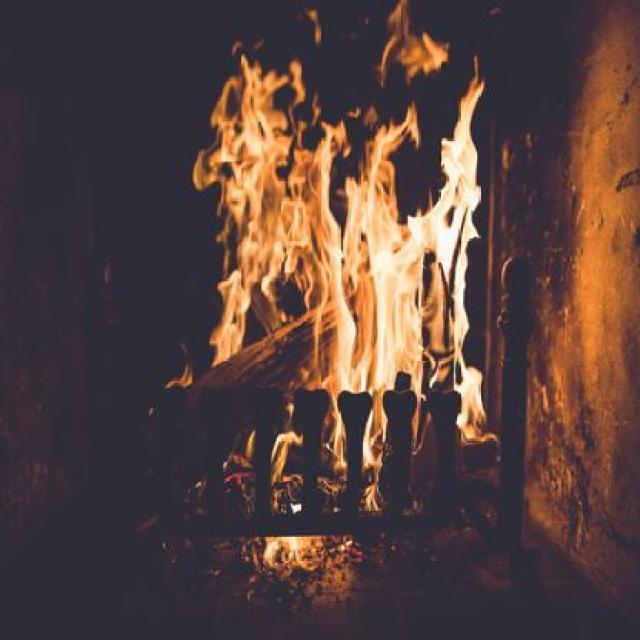Fire: (160, 8, 508, 528)
